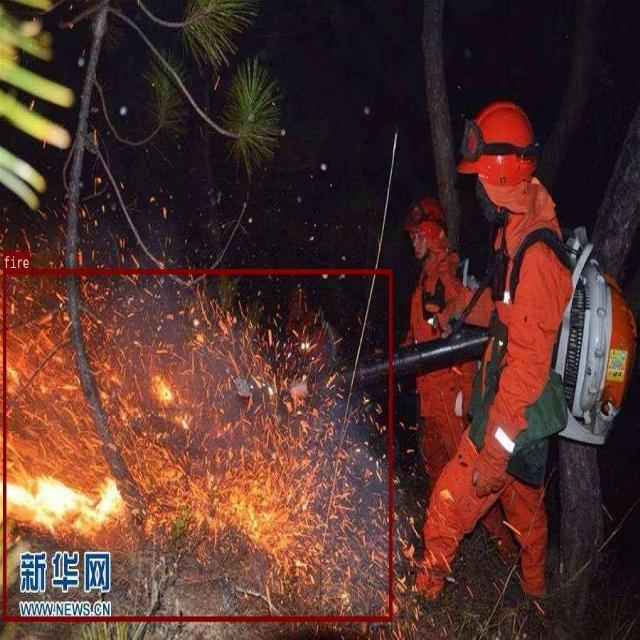fire: (3, 269, 392, 620)
